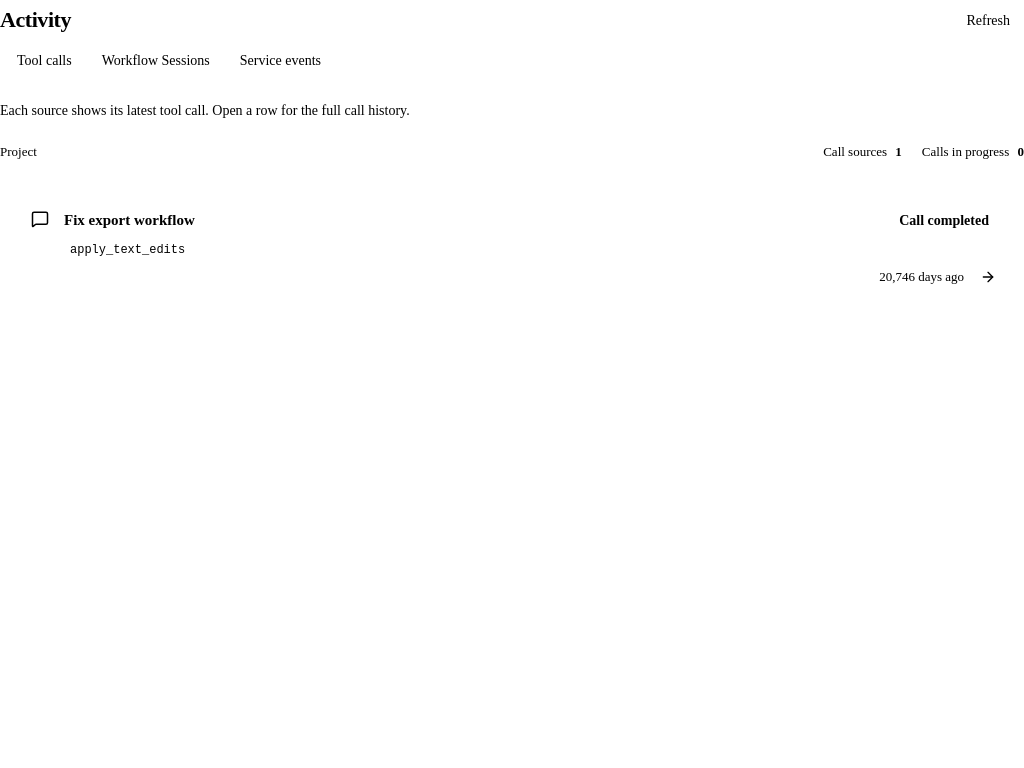
it: product workspace task flows › labels tool completion separately from response handoff and keeps transport evidence in details
Expected: the text "Call completed" is shown, [899,212,989,228]
Click the button with aria-label "Open call details: Fix export workflow" at (129, 220), box [16,190,1008,303]
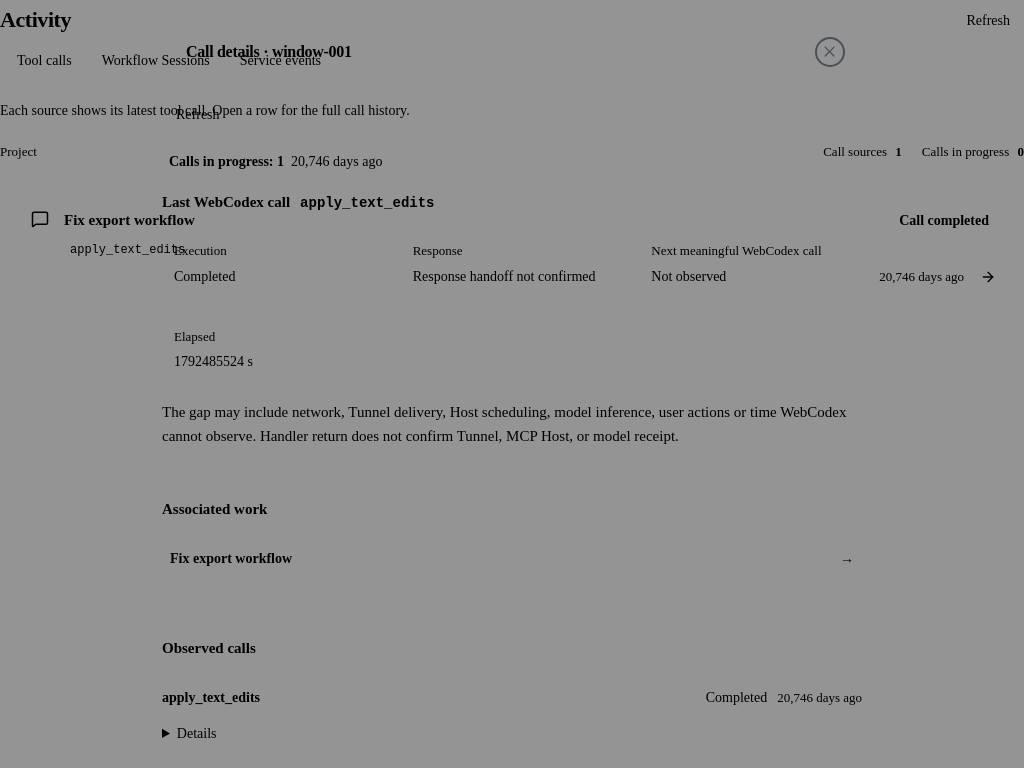
Expected: the text "Response handoff not confirmed" is shown, [413,266,611,287]
